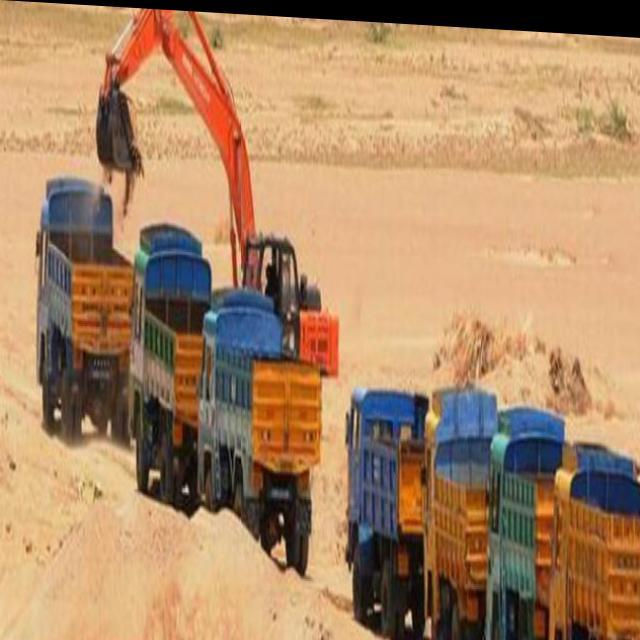uncovered: (207, 291, 306, 544), (36, 178, 124, 440), (343, 369, 428, 622), (127, 212, 195, 488), (430, 406, 490, 640), (502, 422, 562, 632), (574, 454, 638, 621)
